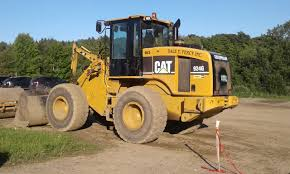bulldozer: (15, 12, 238, 144)
